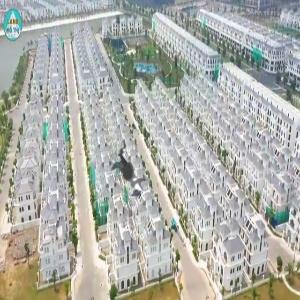drone: (28, 80, 233, 285)
